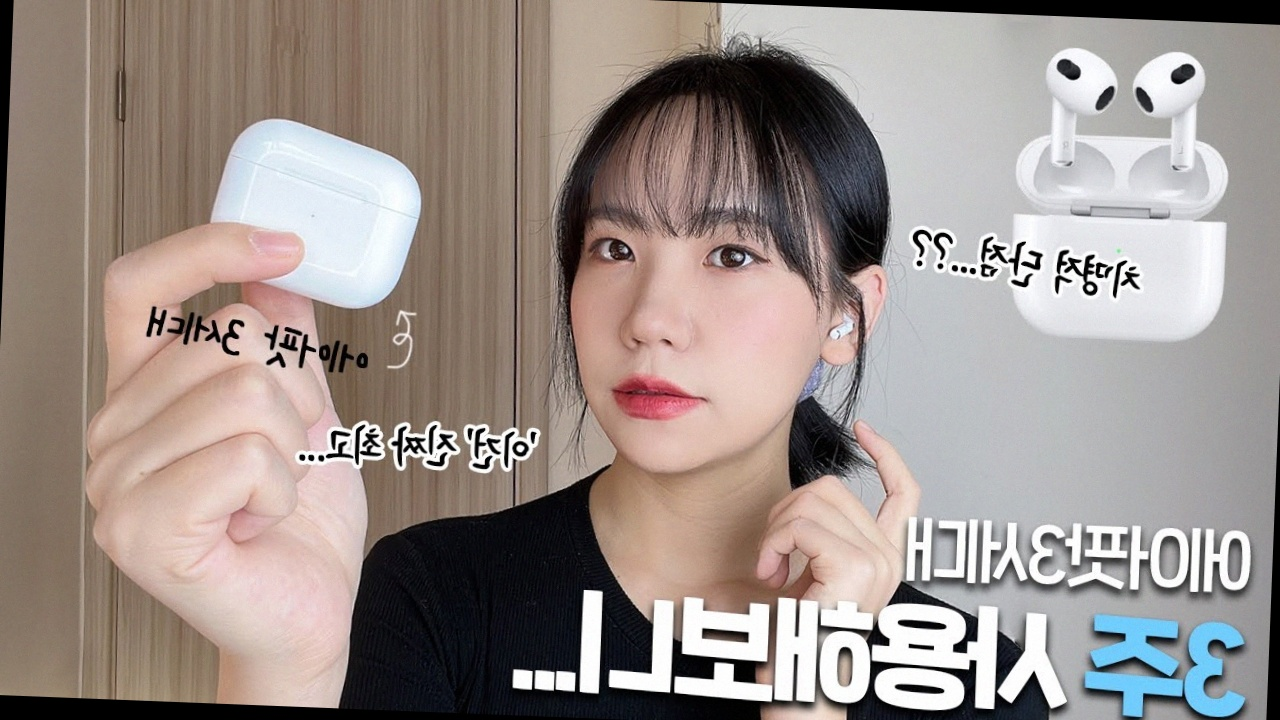earphone: (815, 263, 889, 369)
